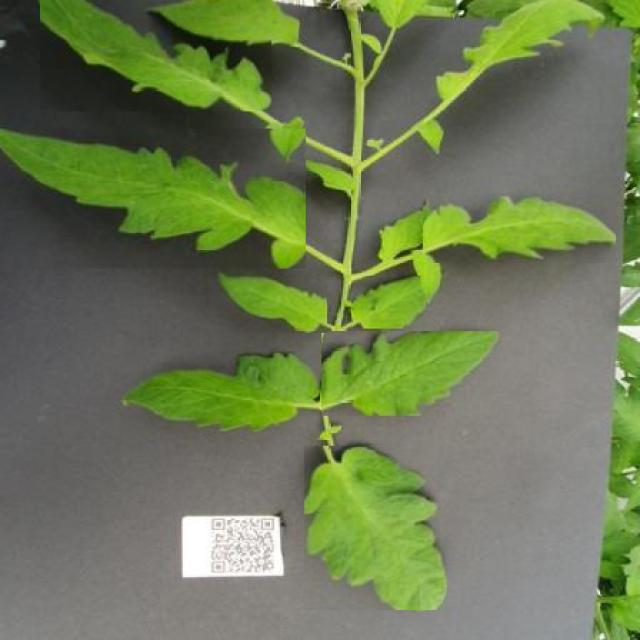Healthy: (0, 128, 306, 268), (39, 0, 271, 111), (305, 446, 448, 610), (120, 352, 320, 432), (322, 330, 499, 416), (423, 195, 616, 262), (217, 270, 327, 333), (153, 0, 298, 47), (351, 276, 426, 328)
